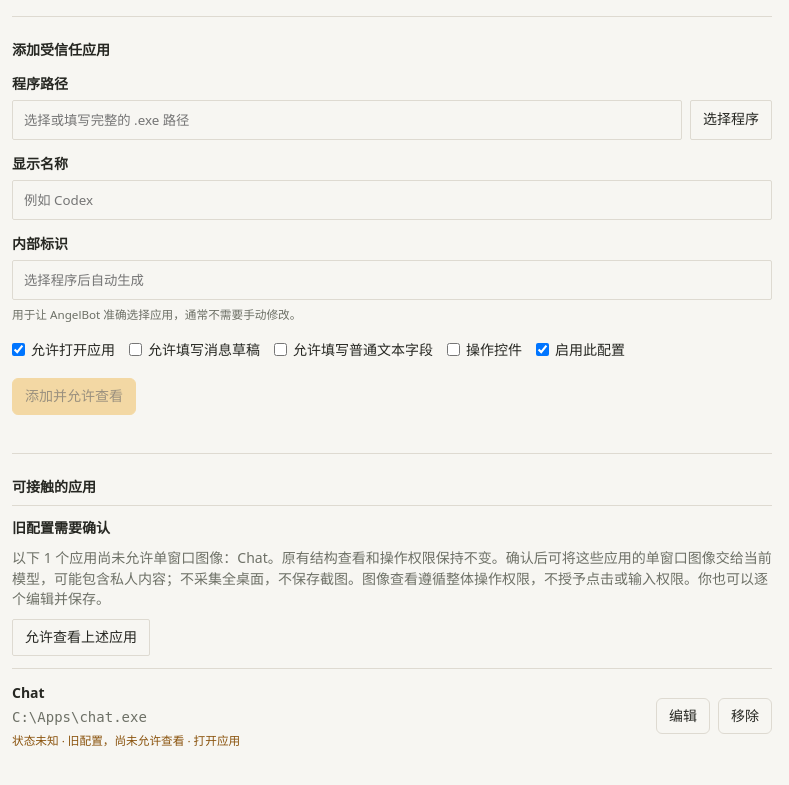
Test: DesktopControlSettings › keeps legacy scope unchanged and shows a nearby error when confirmation fails
(page scrolled)
Click the button "允许查看上述应用": (81, 638) [12,619,150,656]
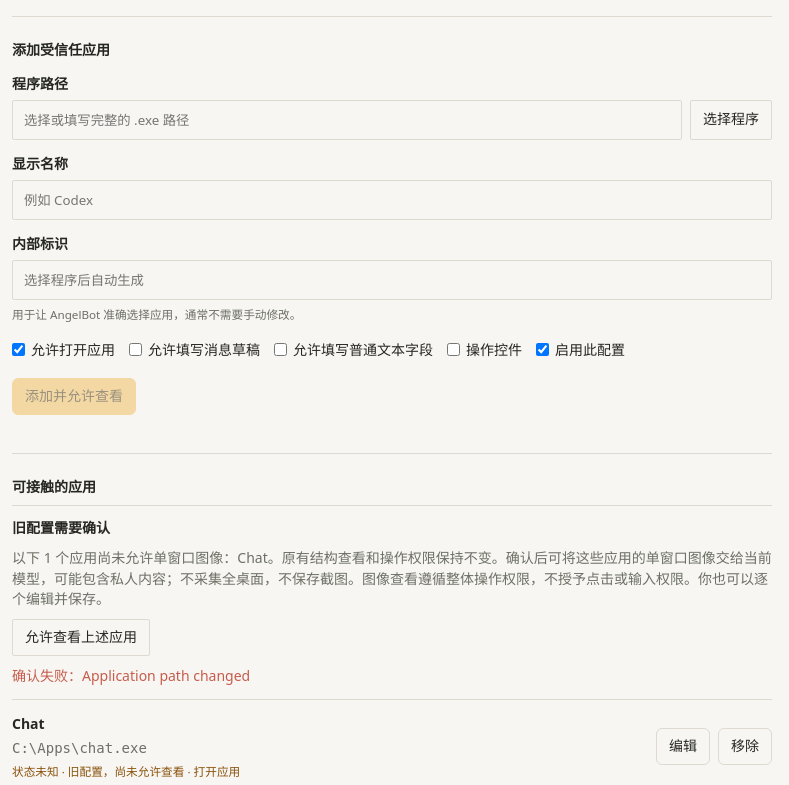
Expected: the message reads "确认失败：Application path changed", [12,666,250,686]
